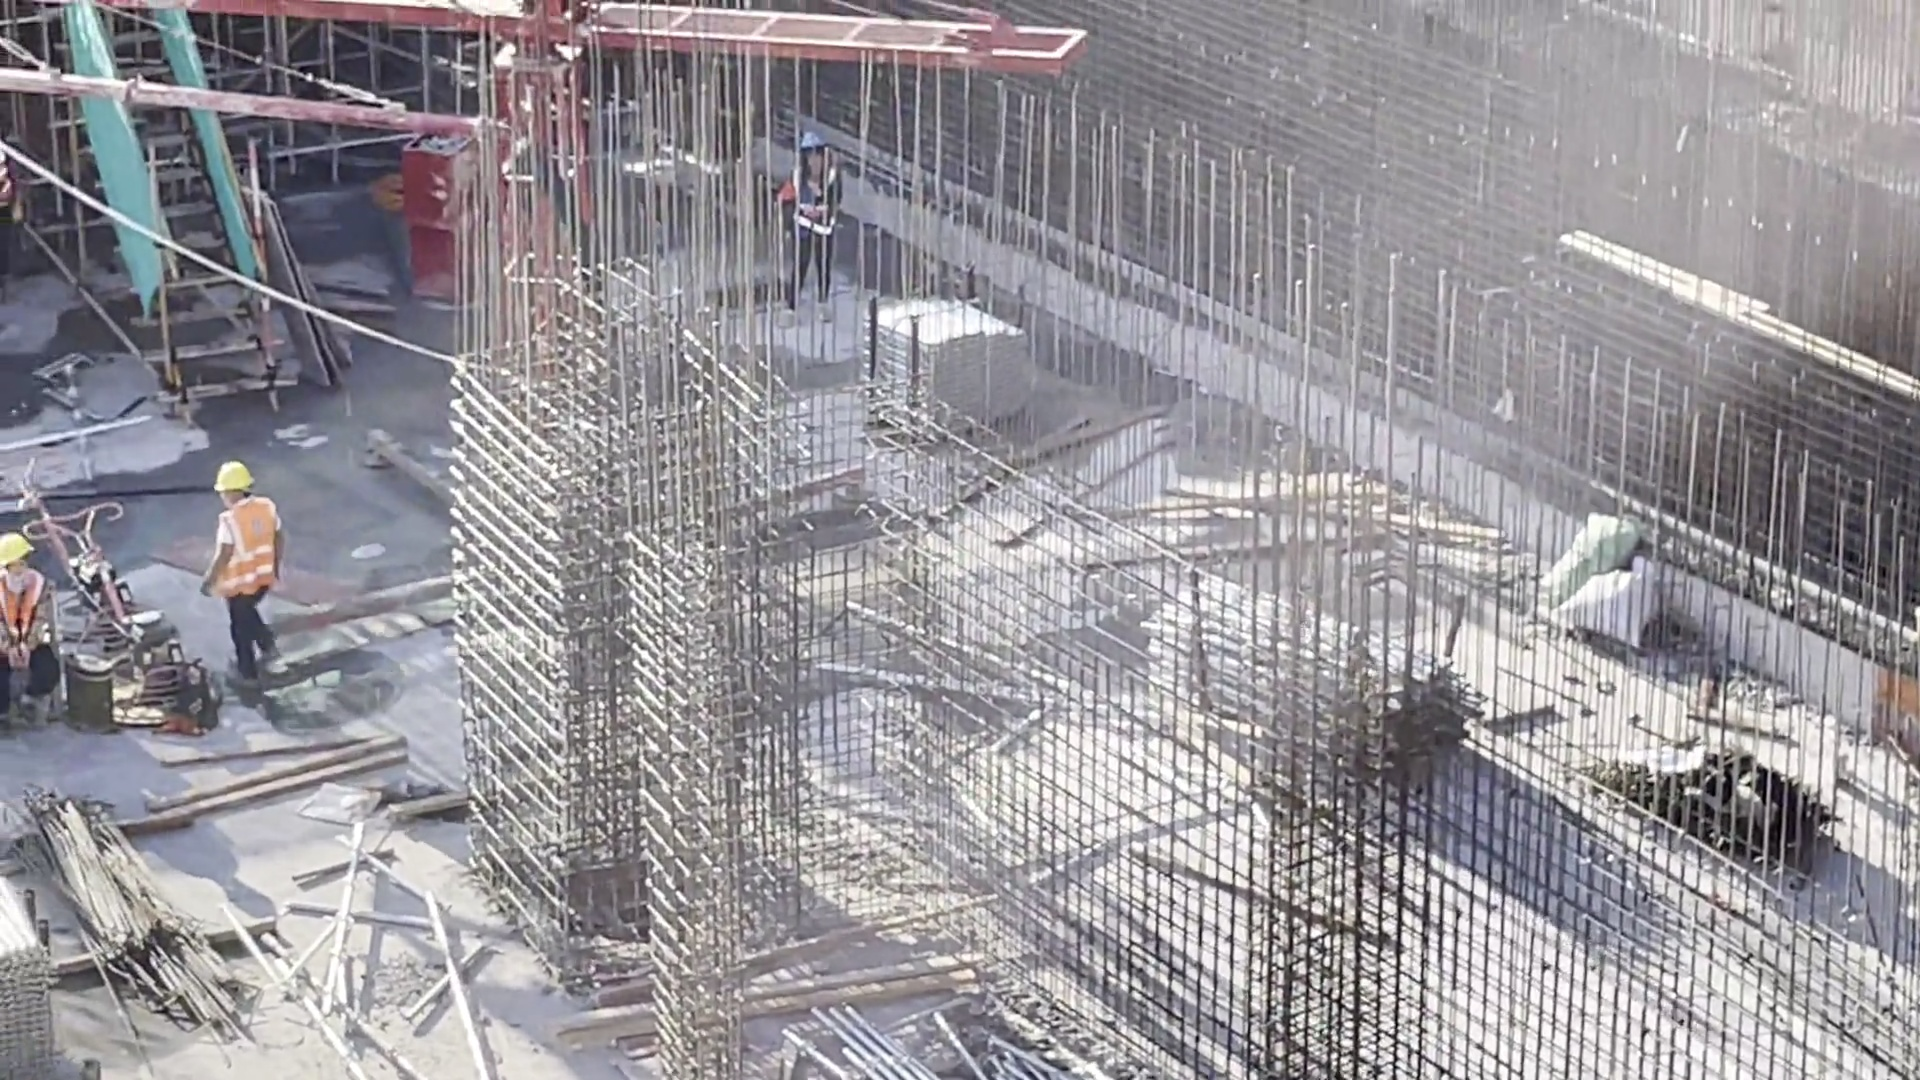helmet: (208, 463, 251, 490), (1, 537, 50, 557), (798, 129, 831, 150)
person: (196, 458, 303, 701), (1, 526, 64, 748), (770, 127, 845, 308)
vest: (220, 507, 286, 604), (1, 575, 51, 652), (792, 171, 837, 232)
